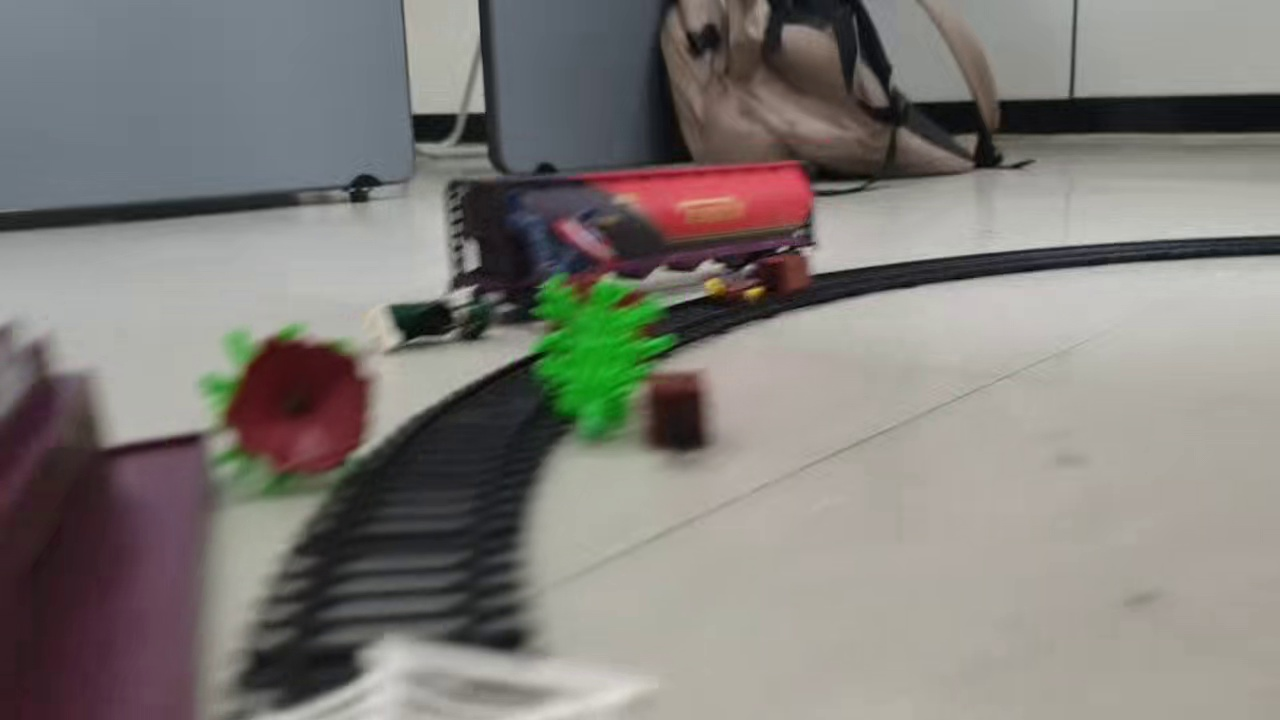box: (637, 369, 714, 450), (757, 255, 810, 300)
people: (498, 184, 619, 324), (375, 296, 499, 352), (706, 264, 771, 307)
tree: (195, 316, 378, 499), (528, 268, 683, 450)
web: (245, 630, 679, 720)
